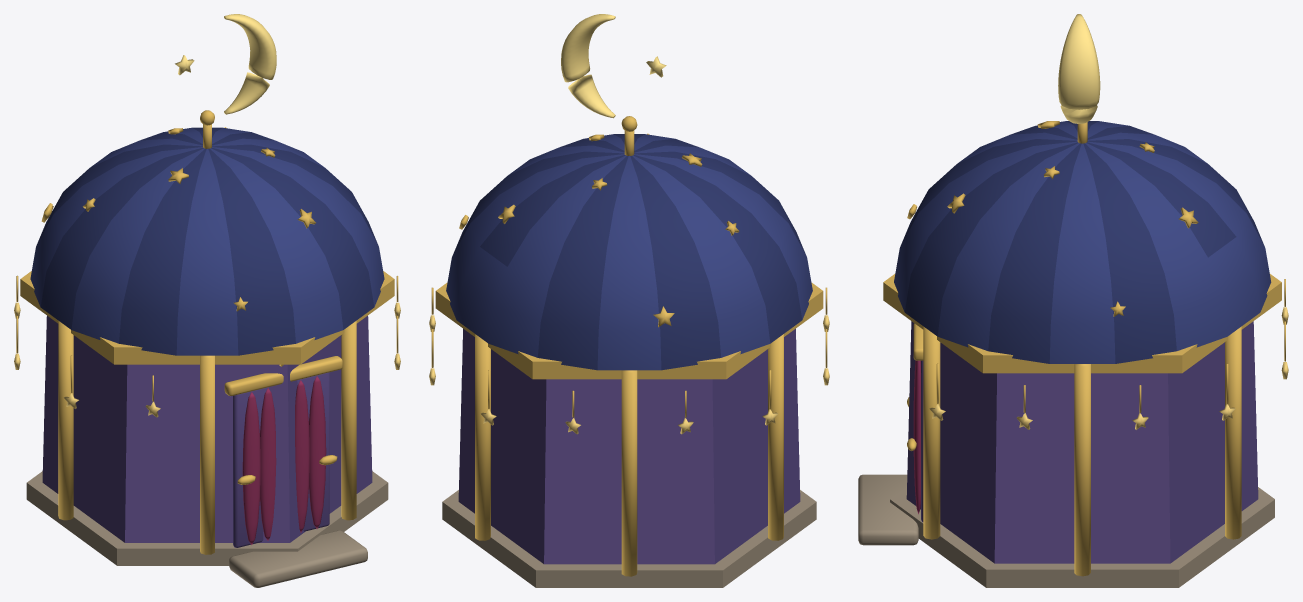
Rendered from fortune-booth.glb.
3 views of the same model, side by side, from view 1: azimuth 30°, elevation 25°; view 2: azimuth 150°, elevation 25°; view 3: azimuth 270°, elevation 25° (orthographic). The views are drawn at different scales.
Visible parts, largest first — view 1: booth; view 2: booth; view 3: booth.
Part boxes in pixels (x1,y1,x2,y2): booth: (14, 14, 400, 587); booth: (429, 14, 829, 587); booth: (858, 14, 1288, 587).
Bounding box in the file's own units: 2.47 × 3.37 × 2.57.
